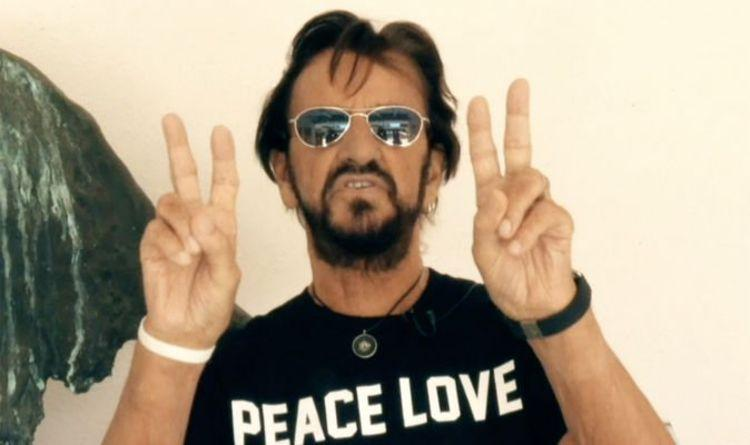peace_sign: (136, 104, 247, 361)
